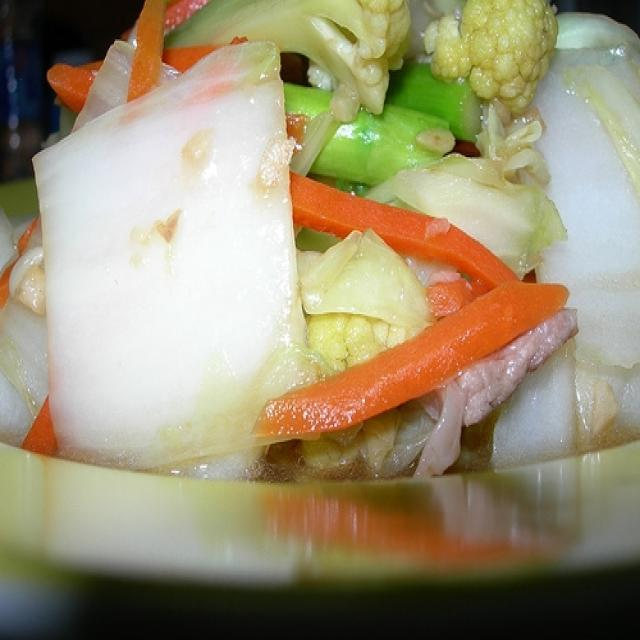蔬菜料理: (5, 5, 635, 579)
